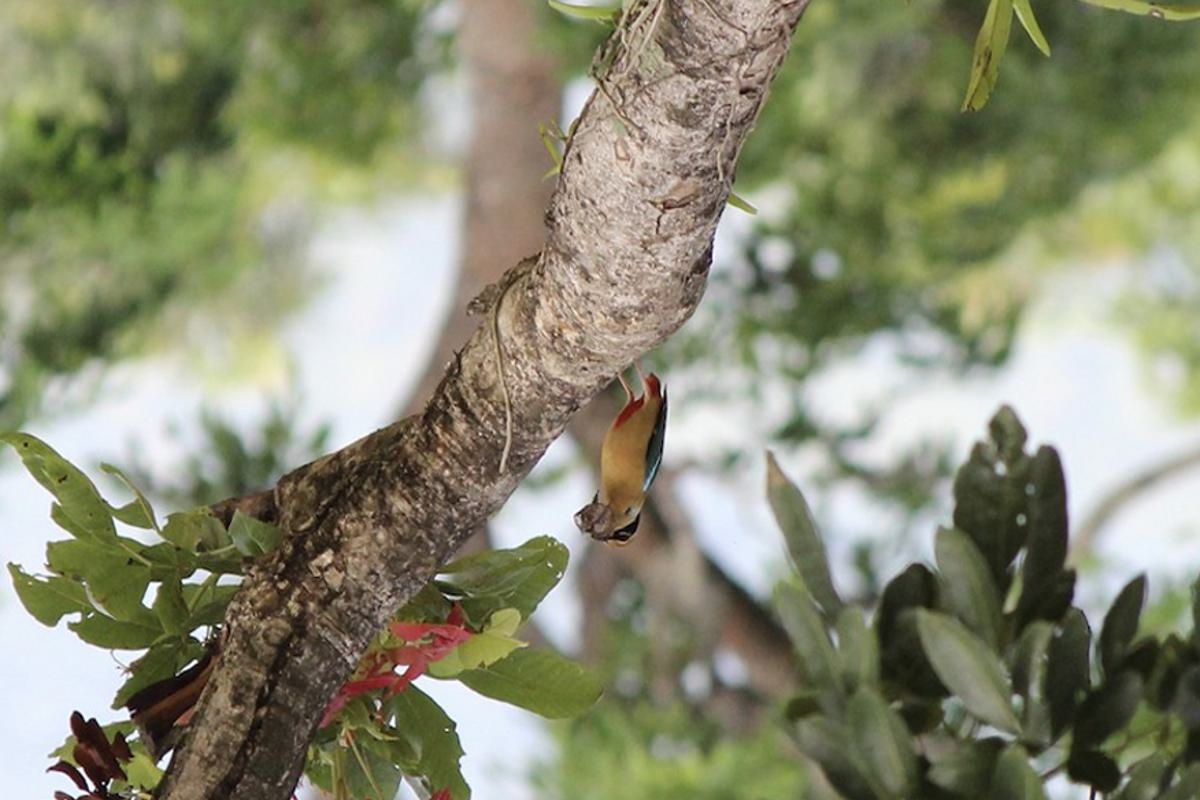pitta: (573, 340, 708, 567)
